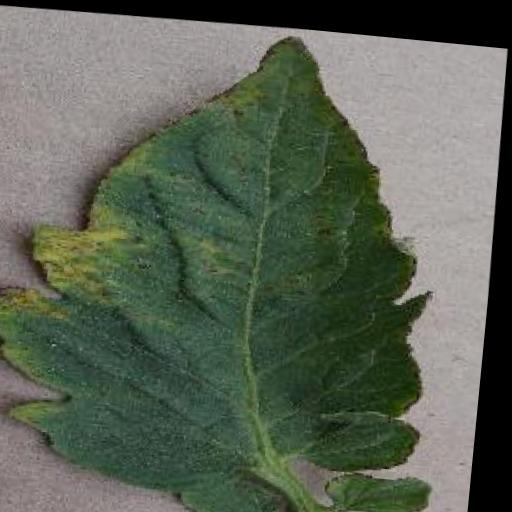Bacterial Spot: (0, 1, 483, 512)
